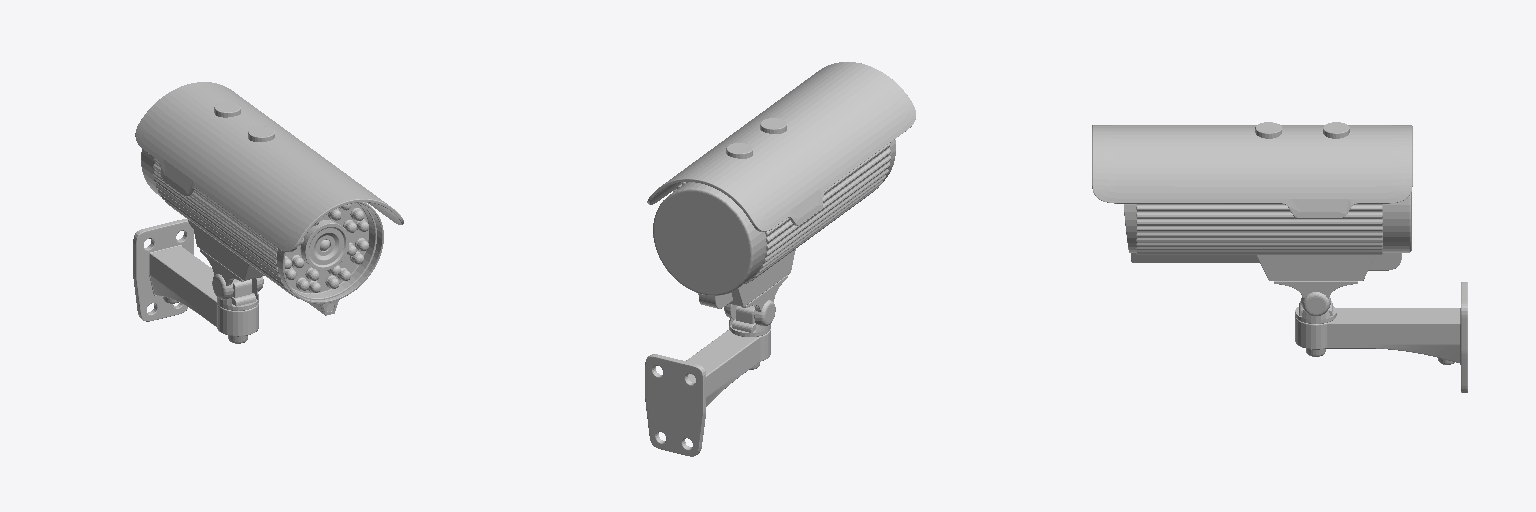
File: camera.obj
3 views of the same model, side by side, from view 1: azimuth 30°, elevation 25°; view 2: azimuth 150°, elevation 25°; view 3: azimuth 270°, elevation 25° (orthographic).
Visible parts, largest first — view 1: archmodels95_044_001, archmodels95_044_003; view 2: archmodels95_044_001; view 3: archmodels95_044_001.
Boxes of the visible parts, x1,y1,x2,y2 form: archmodels95_044_001: [133, 82, 403, 343]; archmodels95_044_003: [285, 204, 368, 292]; archmodels95_044_001: [645, 62, 915, 456]; archmodels95_044_001: [1092, 122, 1467, 392].
Size of the model in its own units: 85.11 by 168 by 223.